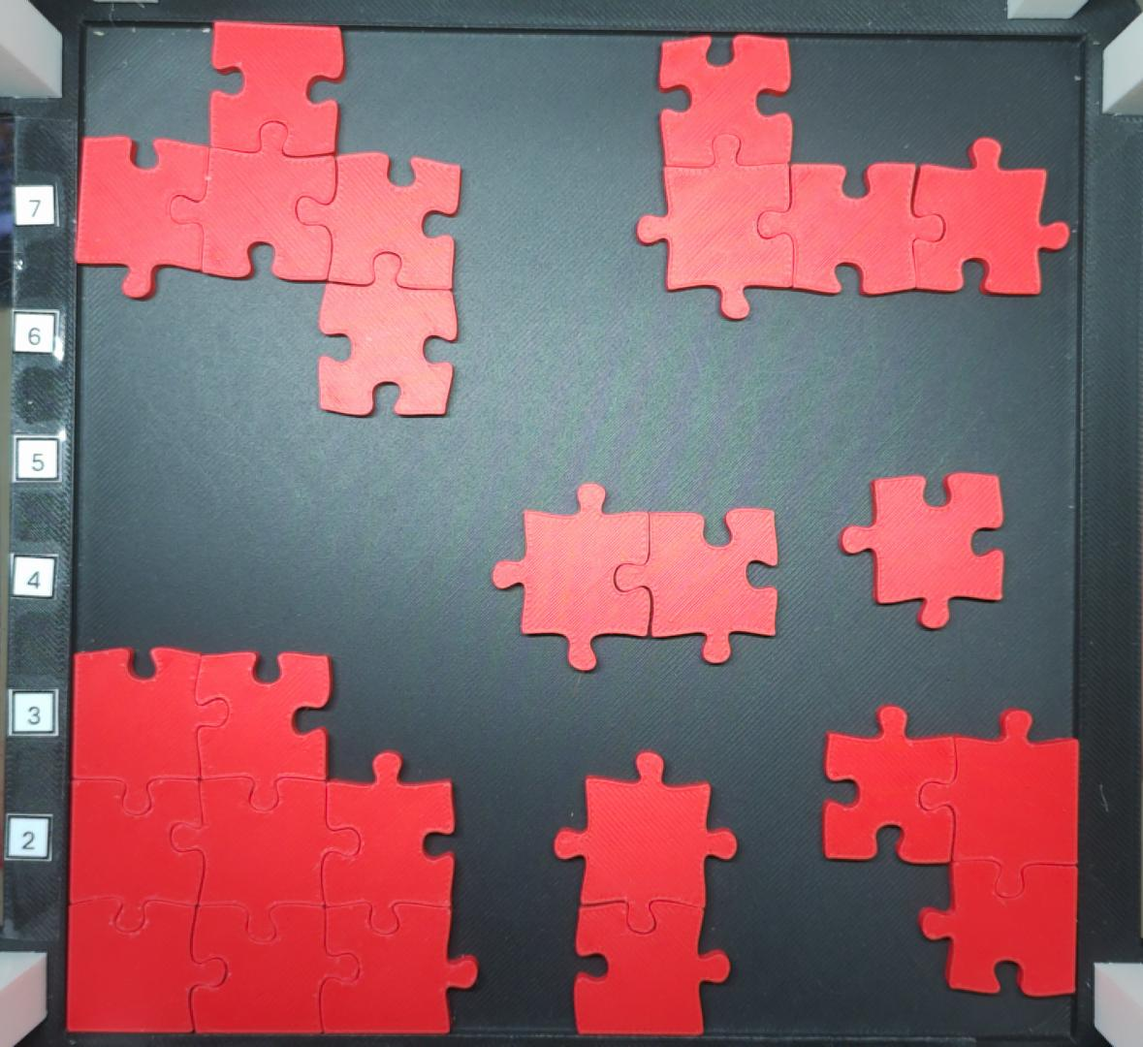p_1: (838, 471, 1006, 632)
p_2: (490, 480, 780, 675), (550, 749, 740, 1035)
p_3: (820, 703, 1081, 998)
p_4: (633, 33, 1072, 323)
p_m: (65, 645, 481, 1036), (74, 18, 463, 421)
